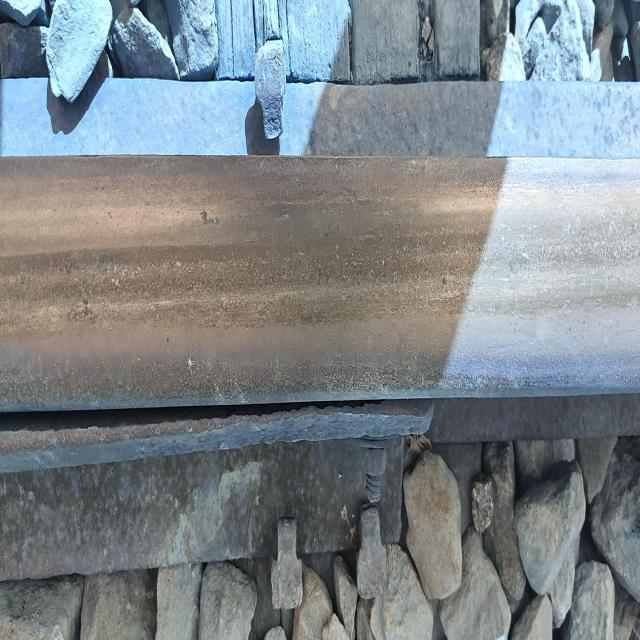Good Fasteners: (254, 39, 286, 139), (271, 518, 302, 610)
